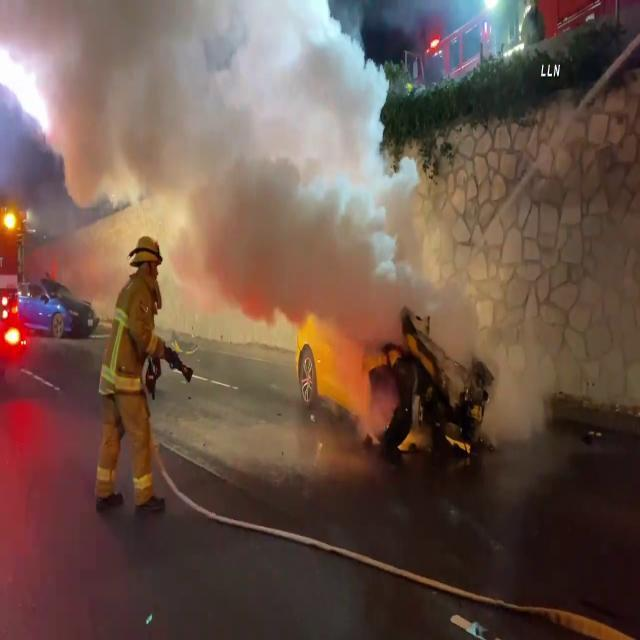Smoke: (2, 0, 432, 291)
